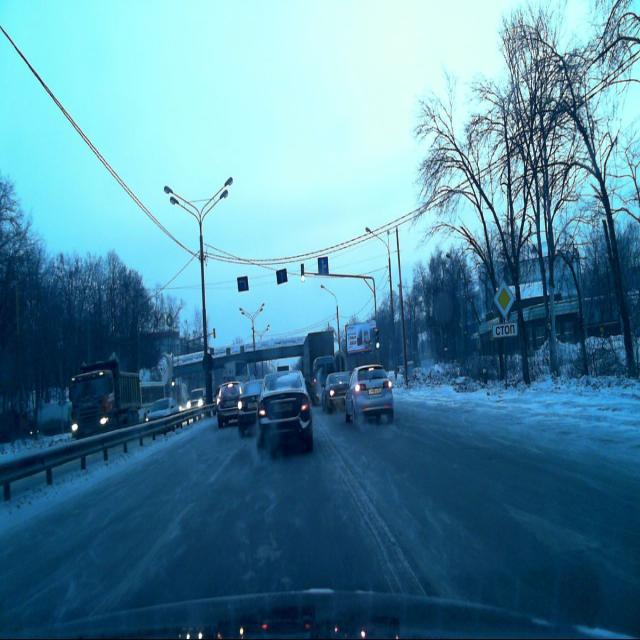object: (504, 340, 508, 390)
road sign: (494, 280, 515, 319), (492, 323, 517, 337)
